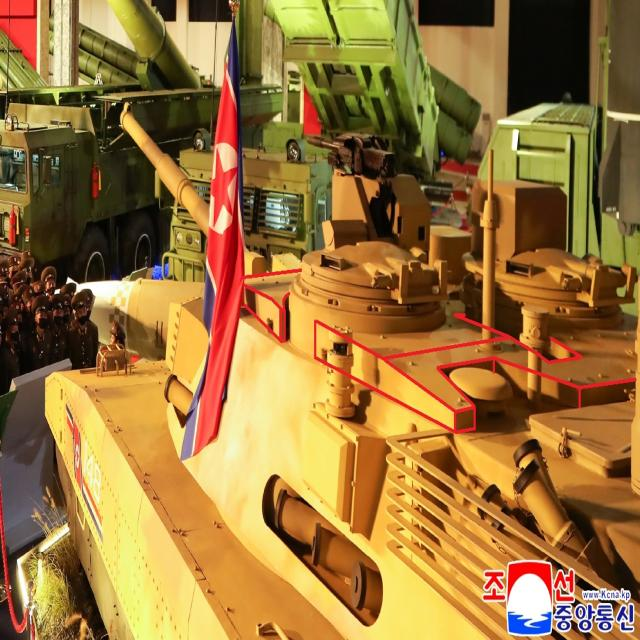north tank: (40, 94, 640, 640)
